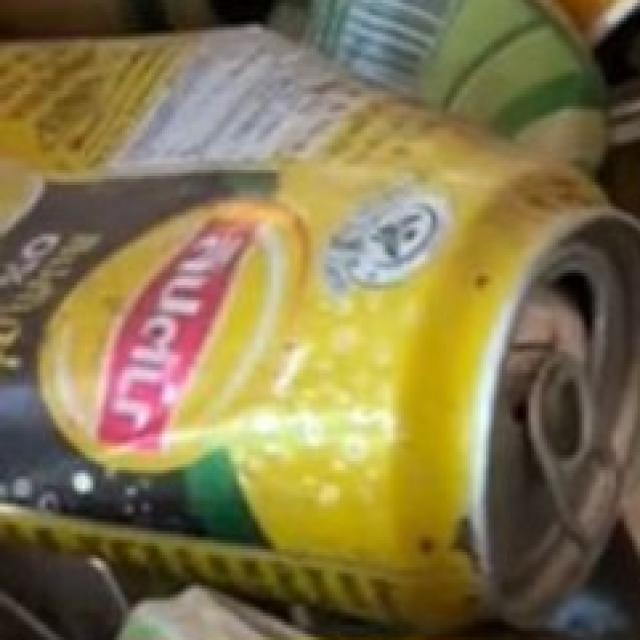can: (14, 0, 640, 613)
